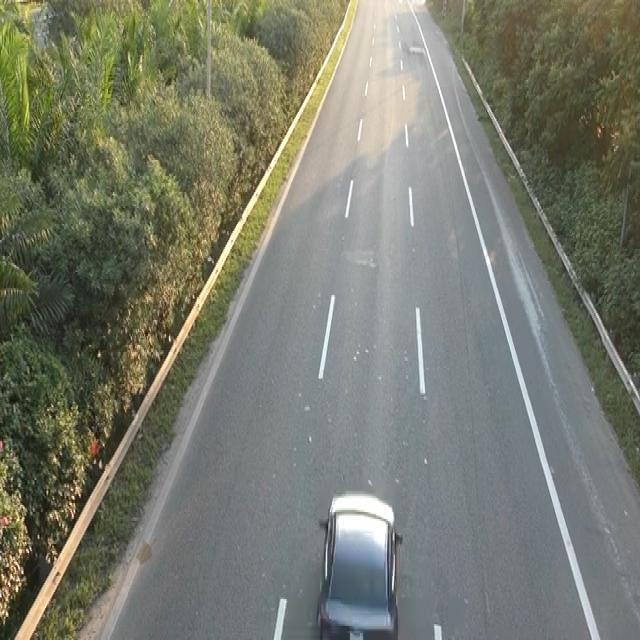bus: (314, 486, 403, 636)
